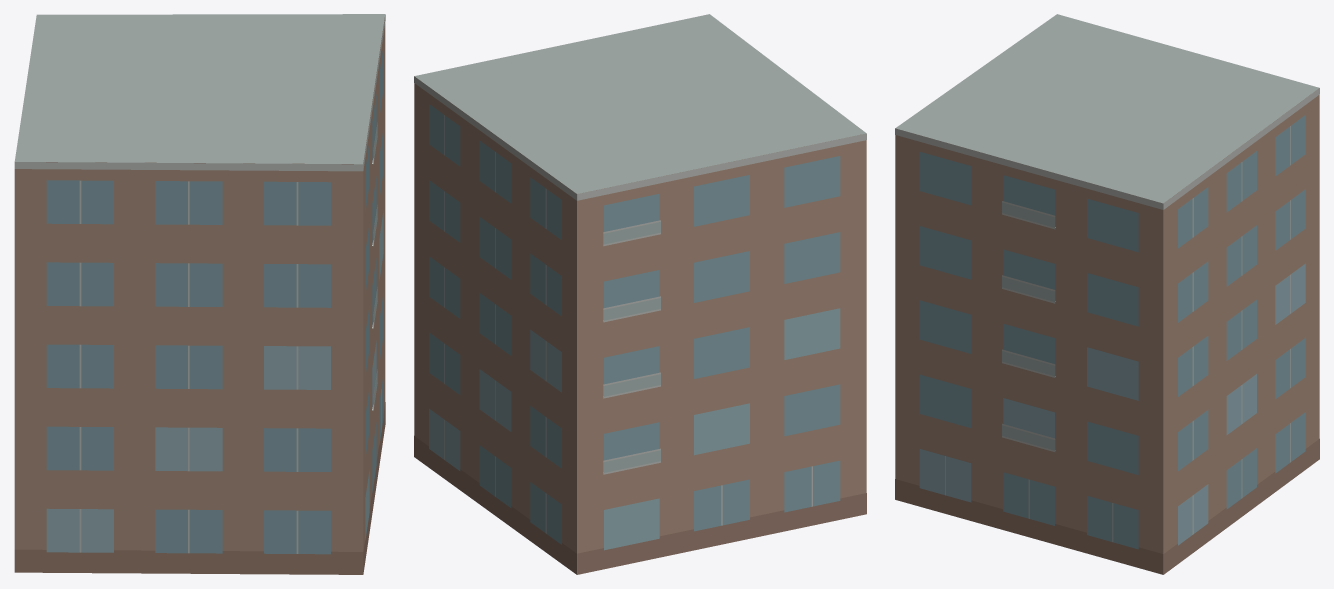
Rendered from survey-upis-32780092.glb.
The picture shows the model from 3 angles, left to right: view 1: azimuth 30°, elevation 25°; view 2: azimuth 150°, elevation 25°; view 3: azimuth 270°, elevation 25°; orthographic projection. The views are drawn at different scales.
Parts seen in each view (by area): view 1: survey-upis-32780092.tmp; view 2: survey-upis-32780092.tmp; view 3: survey-upis-32780092.tmp.
Boxes of the visible parts, <box> form: survey-upis-32780092.tmp: <box>14,14,385,574</box>; survey-upis-32780092.tmp: <box>414,14,866,574</box>; survey-upis-32780092.tmp: <box>895,14,1319,574</box>.
Size of the model in its own units: 15.22 by 13.9 by 14.41.
